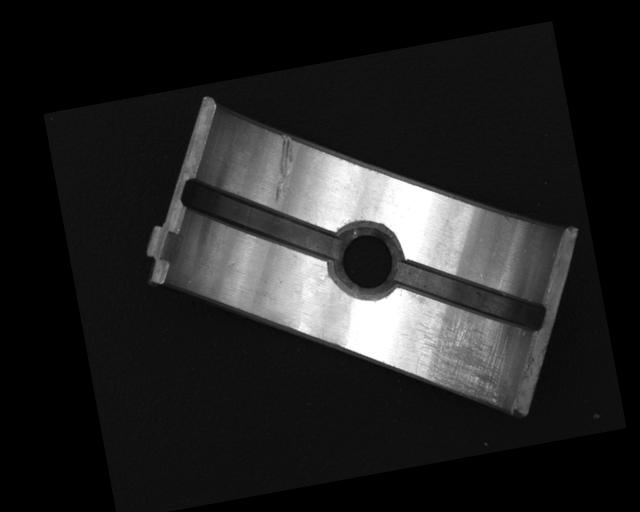gap: (179, 155, 339, 285), (392, 237, 550, 353)
hole: (327, 219, 407, 306)
nick: (261, 131, 305, 203)
scratch: (407, 297, 521, 415)
